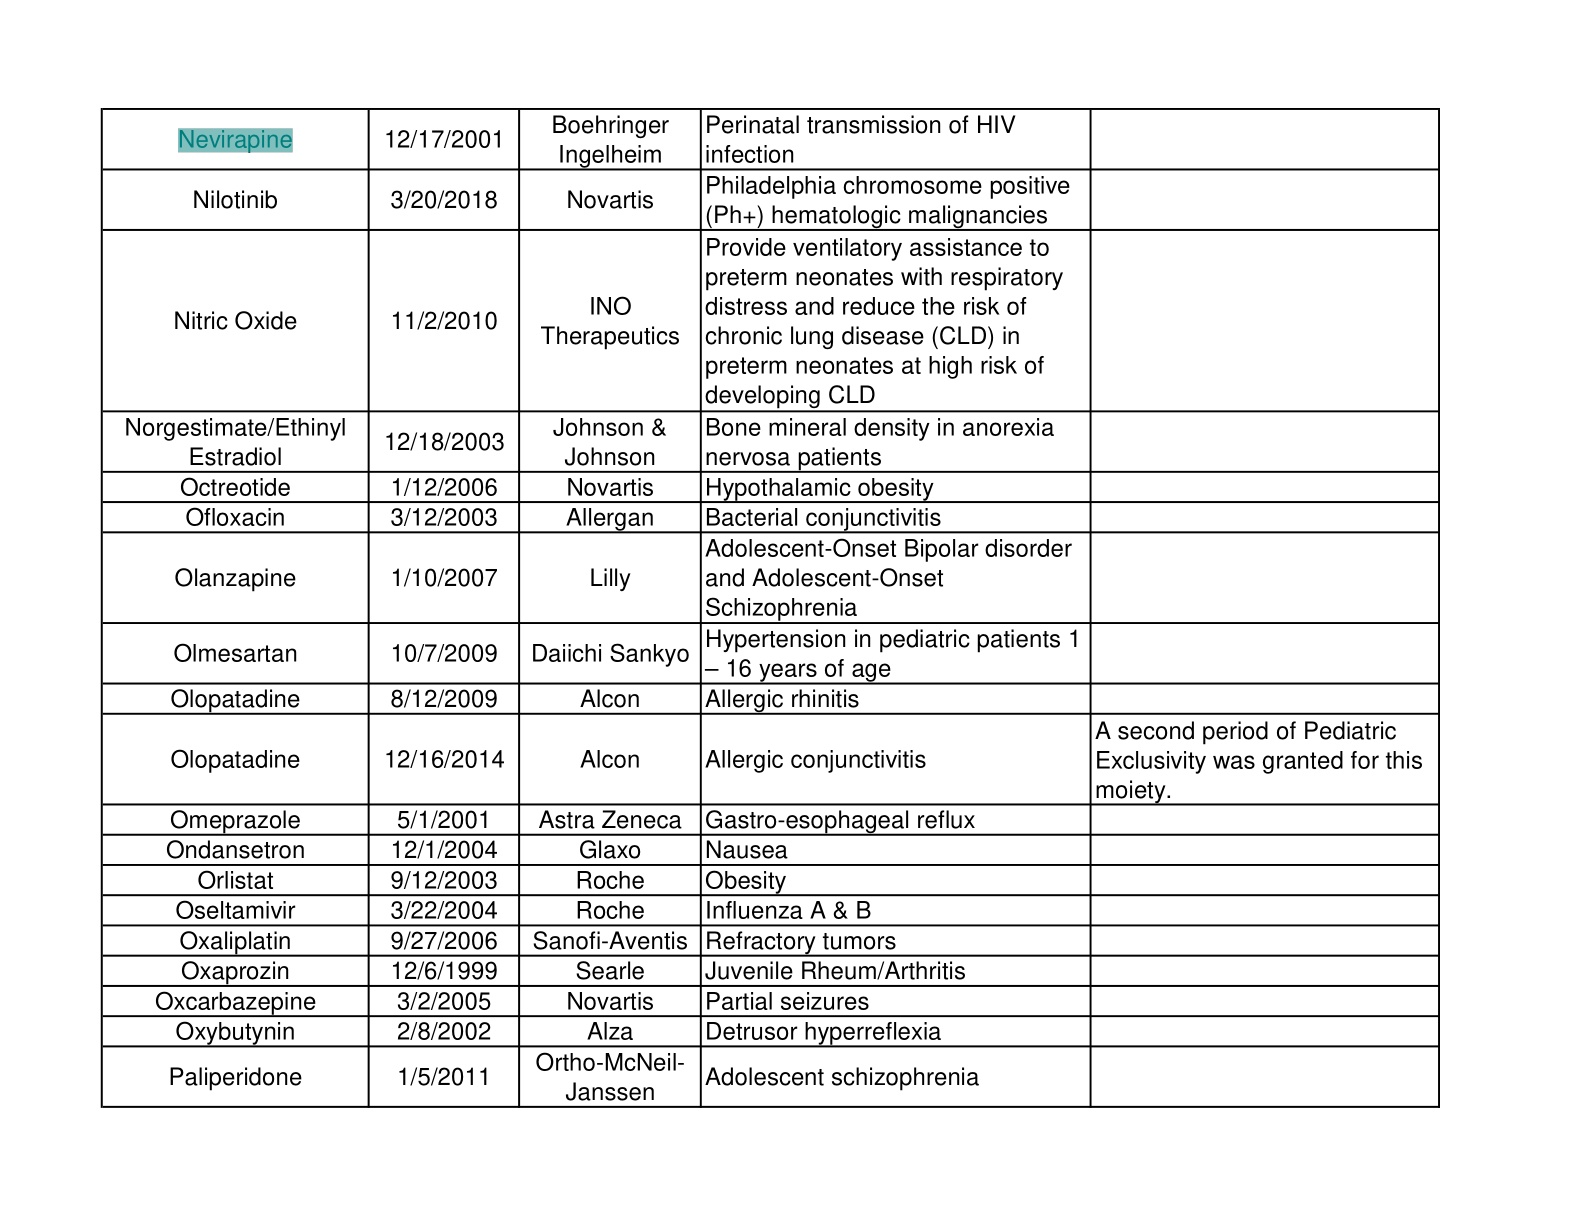full_lined: (91, 99, 1445, 1119)
